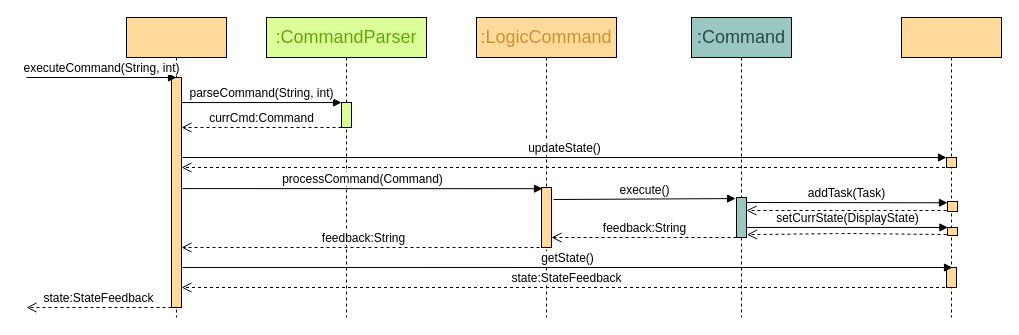
Some shapes in this 1019 by 335 pixel diagram are drawn without their labels. The box of each missing label's shape, as (x1, y1, x2, y2) in pixels:
:Logic: (126, 16, 226, 318)
:LogicData: (900, 16, 1002, 318)
